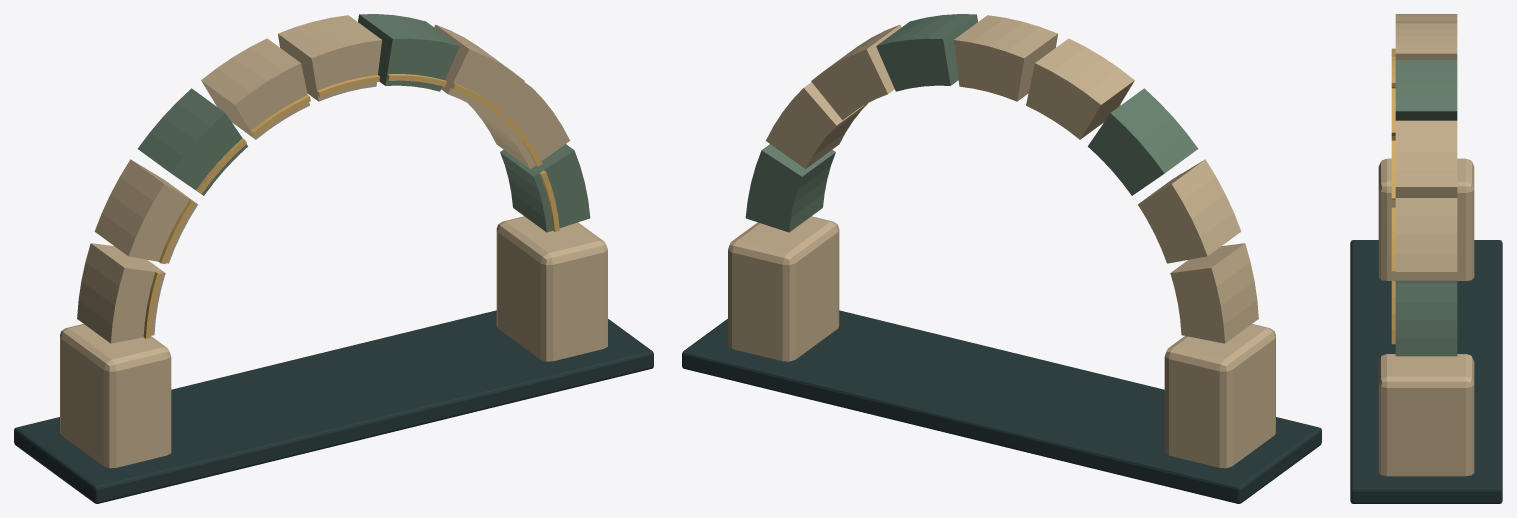
File: landmark.glb
The picture shows the model from 3 angles, left to right: view 1: azimuth 30°, elevation 25°; view 2: azimuth 150°, elevation 25°; view 3: azimuth 270°, elevation 25°; orthographic projection. The views are drawn at different scales.
Parts seen in each view (by area): view 1: landmark_solid; view 2: landmark_solid; view 3: landmark_solid.
Part boxes in pixels (x1=…): landmark_solid: x1=14, y1=14, x2=653, y2=503; landmark_solid: x1=682, y1=14, x2=1321, y2=503; landmark_solid: x1=1350, y1=14, x2=1502, y2=503.
Bounding box in the file's own units: 10.5 × 6.71 × 2.7.
